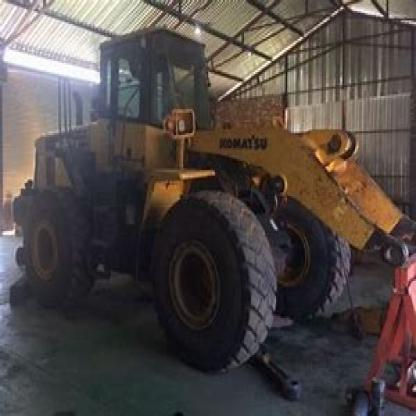bull_dozer/loader/grader: (14, 17, 414, 370)
